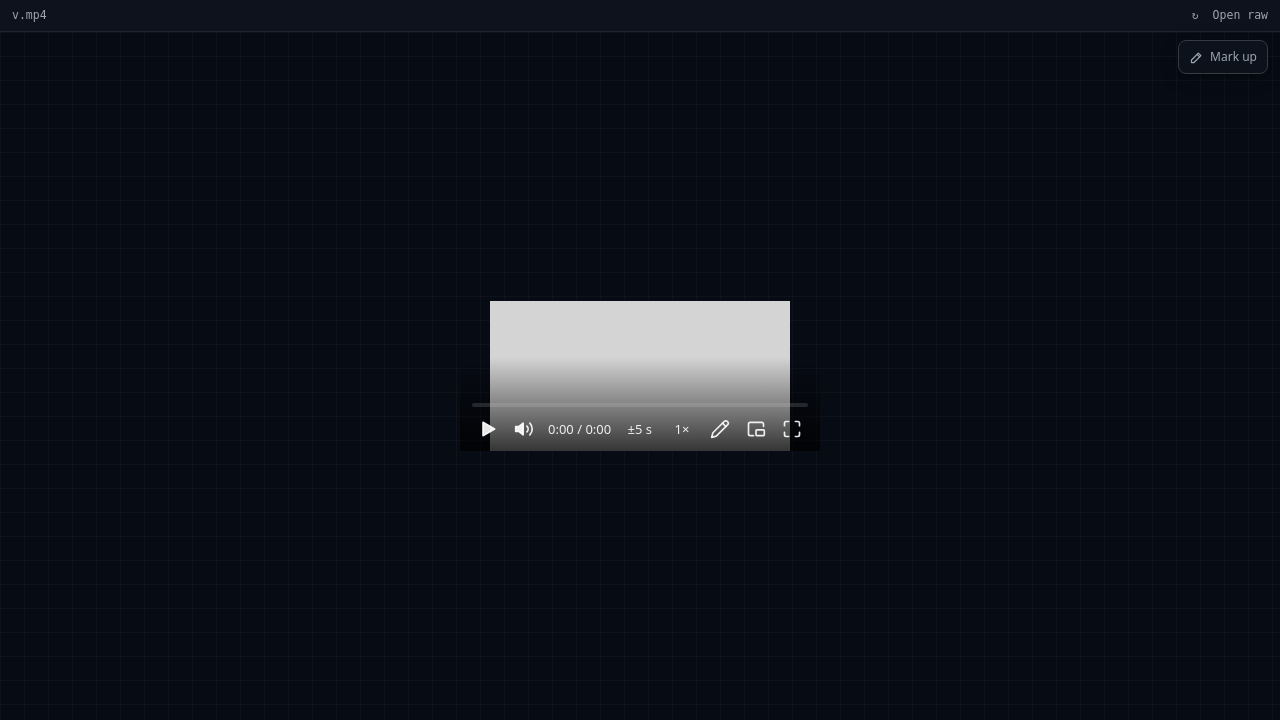
Scenario: while marking, the video has no player bar; leaving restores it
Expected: the element showing "0:00 / 0:00 ±5 s 1×" is shown, [460,357,820,451]
Click the button "Mark up" at (1223, 57), box [1181,43,1265,71]
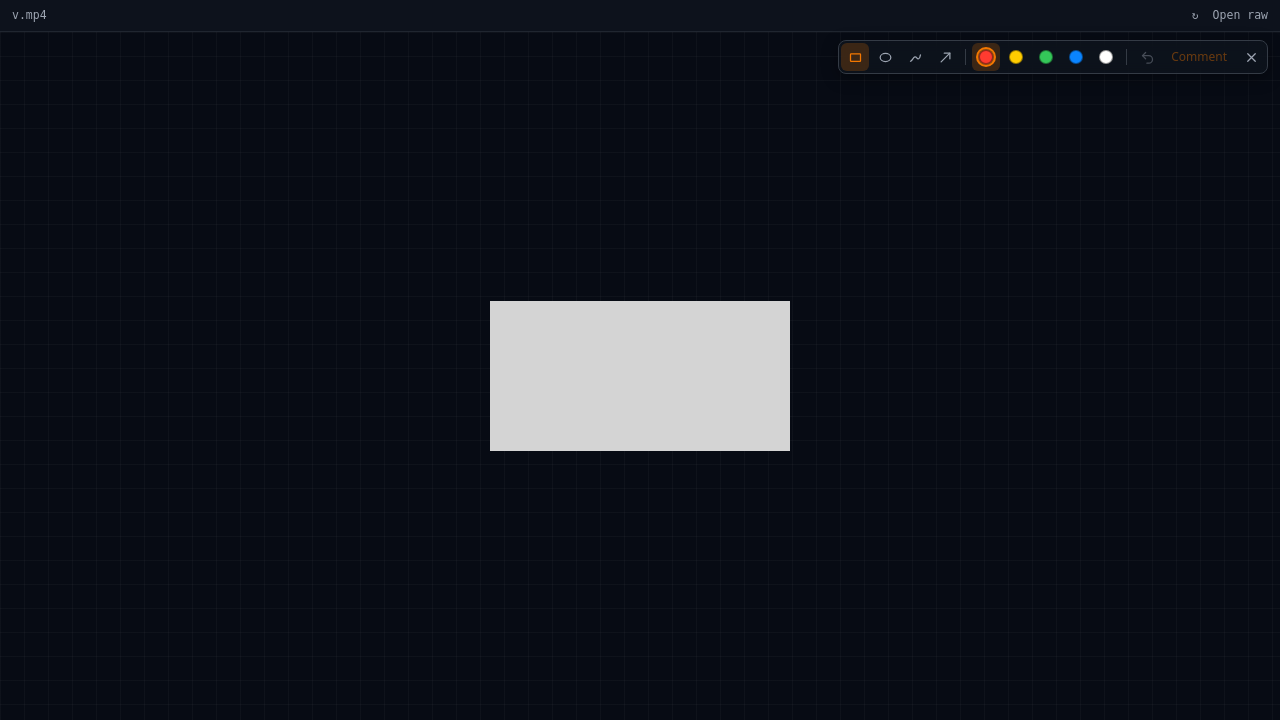
Click the button named "leave" at (1251, 57), box [1237,43,1265,71]
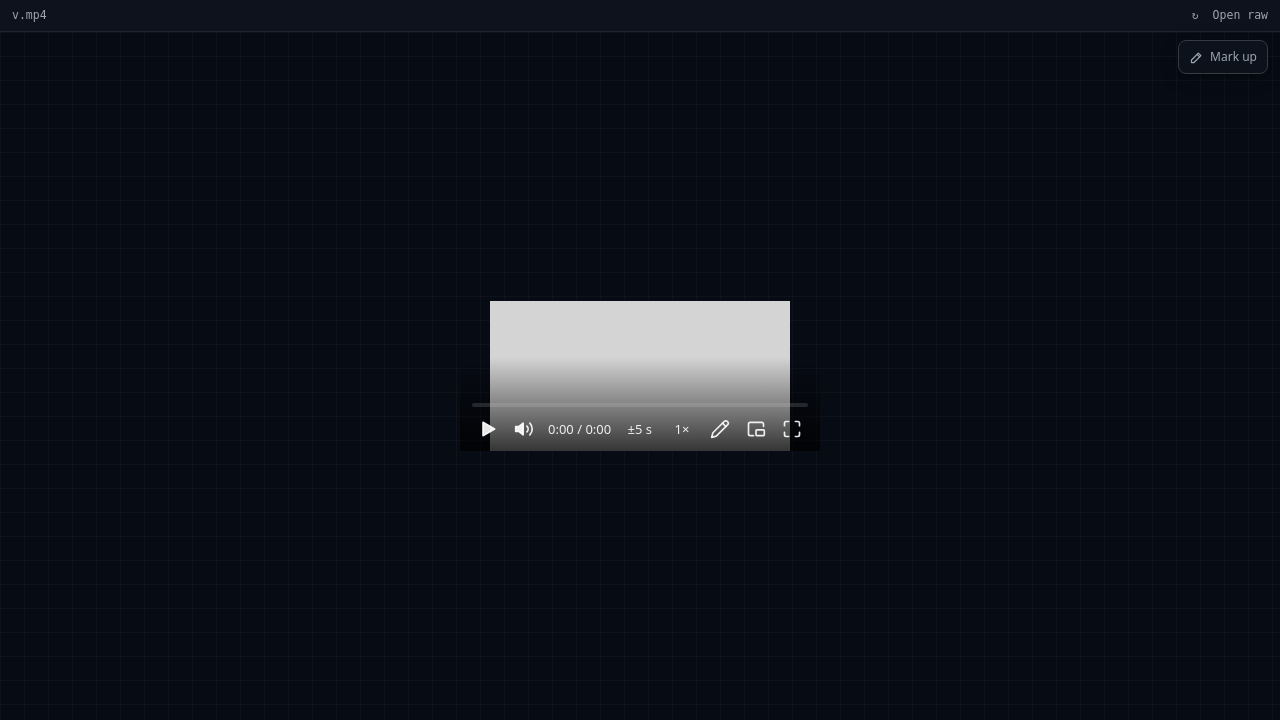
Expected: the element showing "0:00 / 0:00 ±5 s 1×" is shown, [460,357,820,451]
